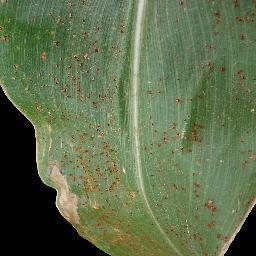Corn_Common_Rust: (1, 0, 256, 253)
